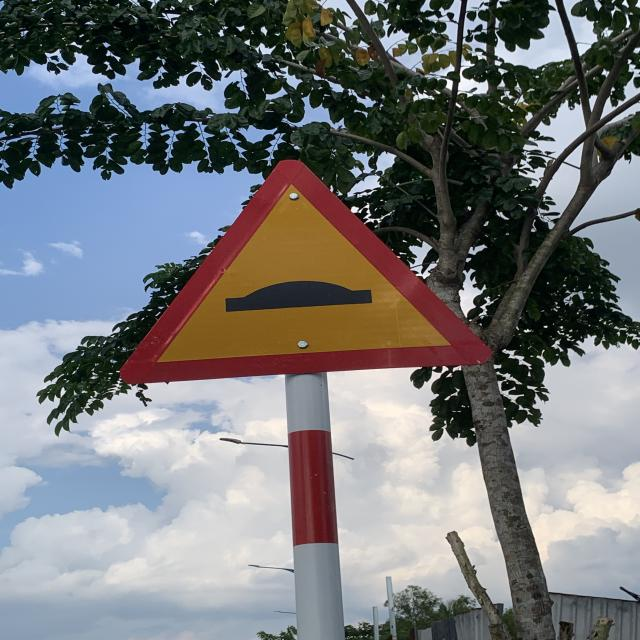Duong_Cong_Ben_Phai: (118, 159, 497, 384)
